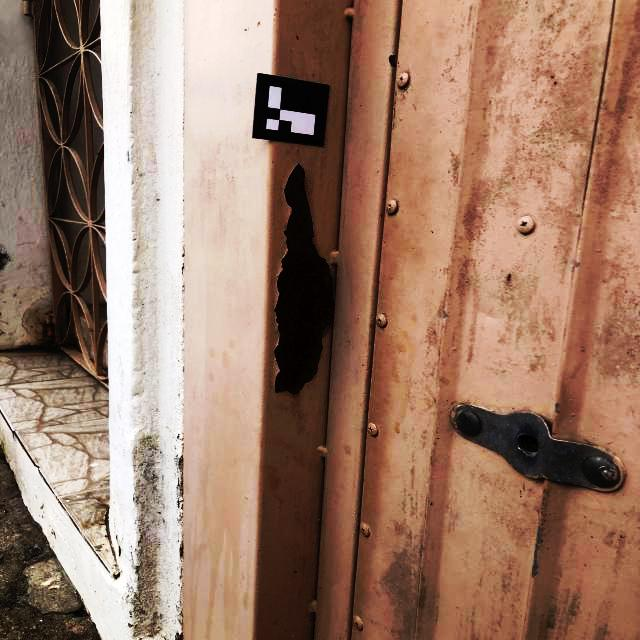Corrosion: (273, 163, 335, 395), (42, 322, 55, 337), (388, 54, 396, 67), (57, 342, 67, 347), (257, 22, 261, 28), (43, 337, 46, 341), (244, 29, 248, 31), (45, 313, 48, 315), (53, 338, 55, 341)
